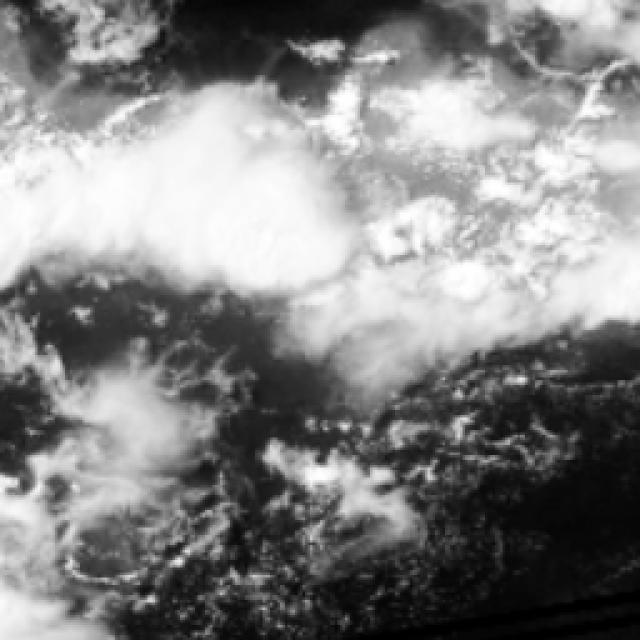CB: (35, 162, 299, 249)
